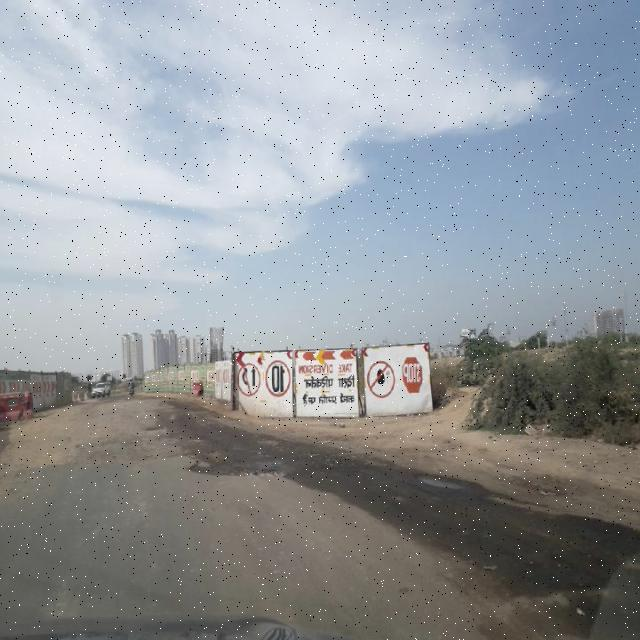D40: (274, 432, 638, 635), (6, 414, 270, 483)
